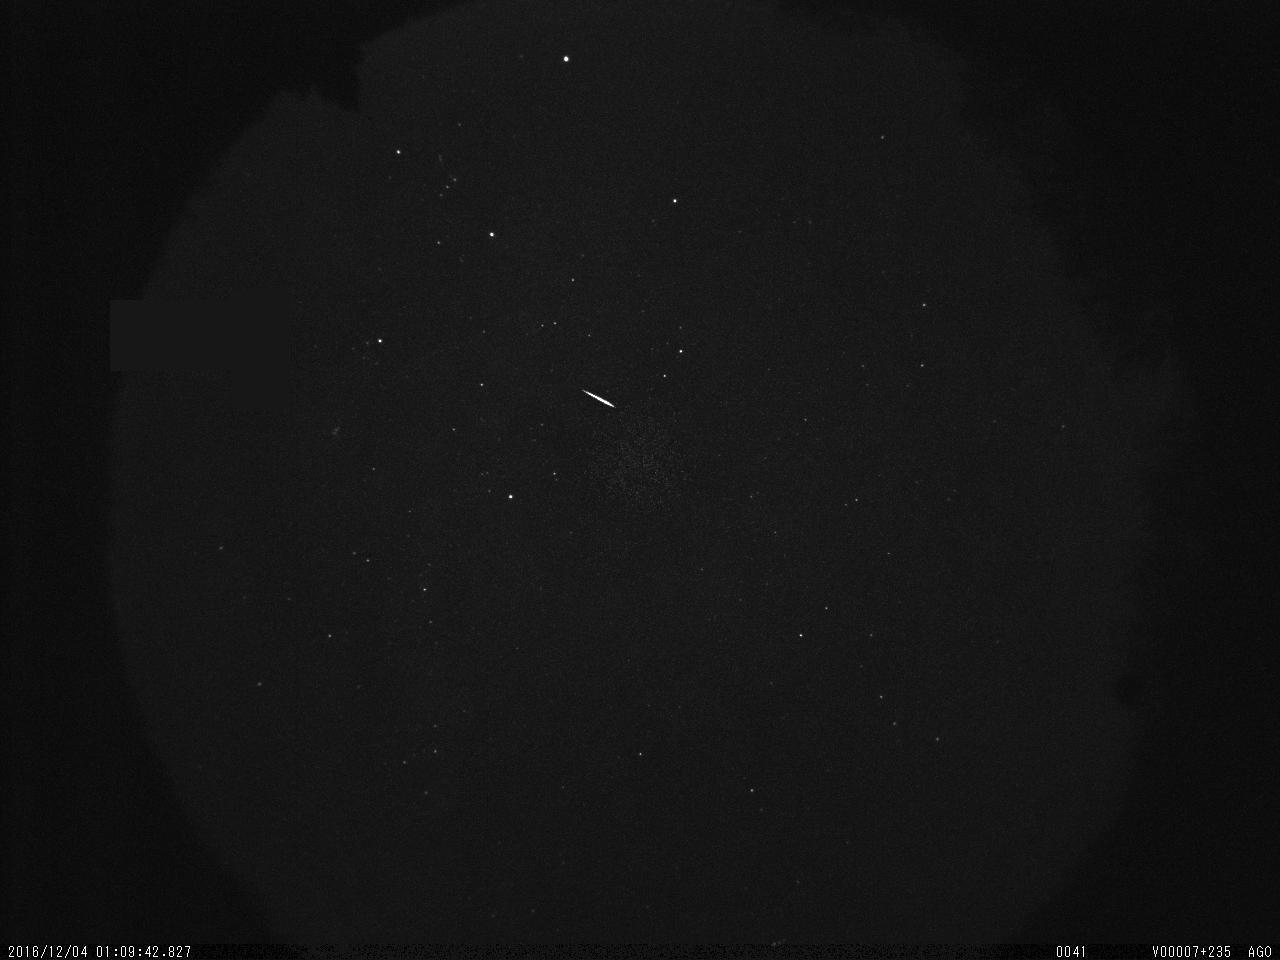meteor: (556, 367, 632, 425)
